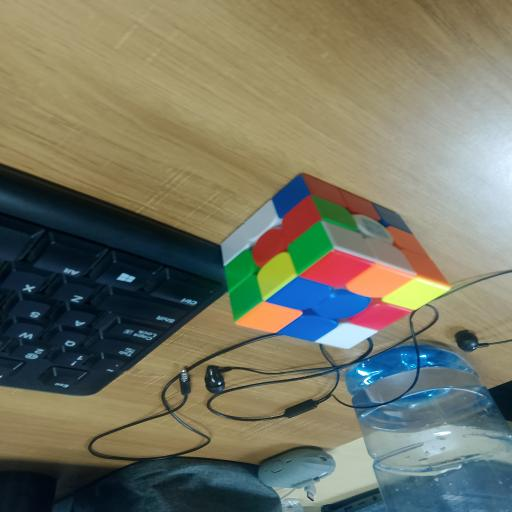cubic: (211, 164, 456, 358)
